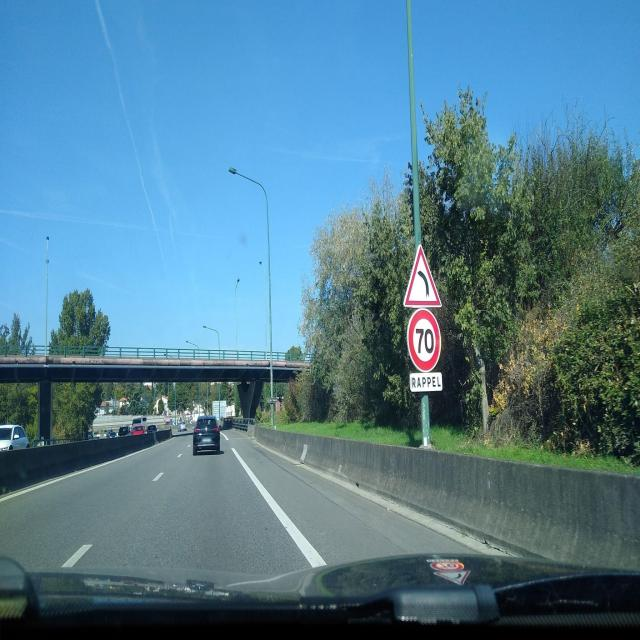car: (192, 414, 220, 455), (0, 424, 29, 452), (178, 420, 188, 434)
